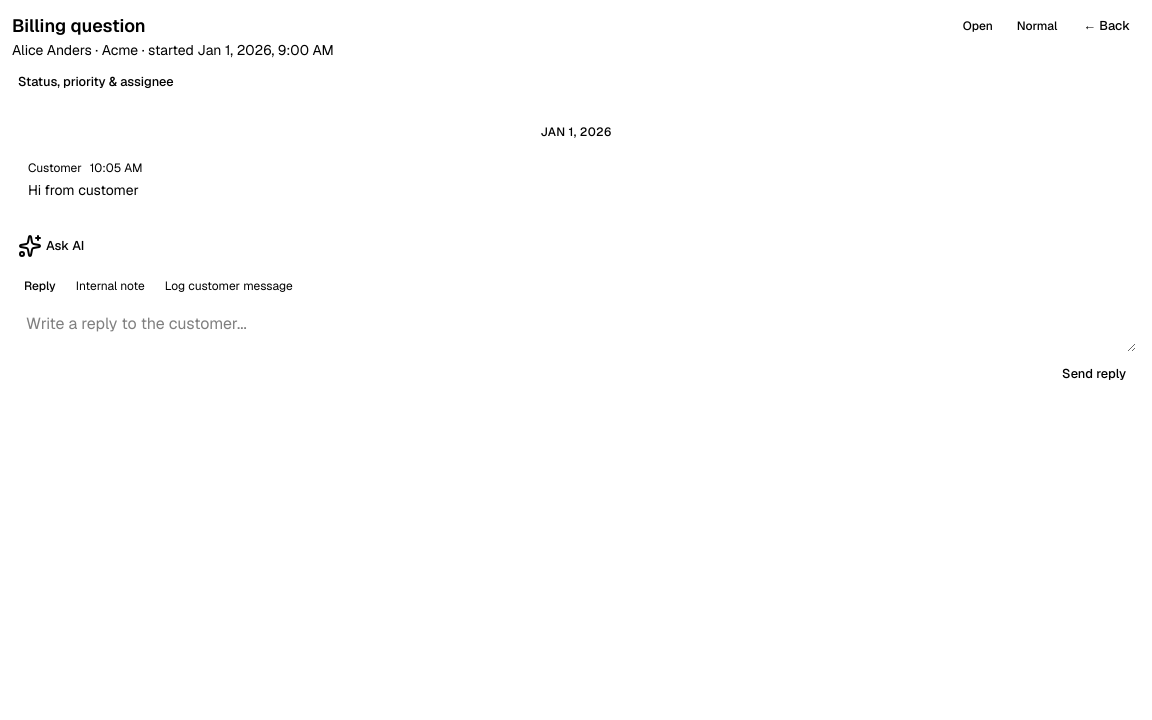
Test: ConversationPane › keeps a failed message in place with a failed indicator, Retry and Discard
Type "Will fail" into the text box at (576, 328), box [16,304,1136,352]
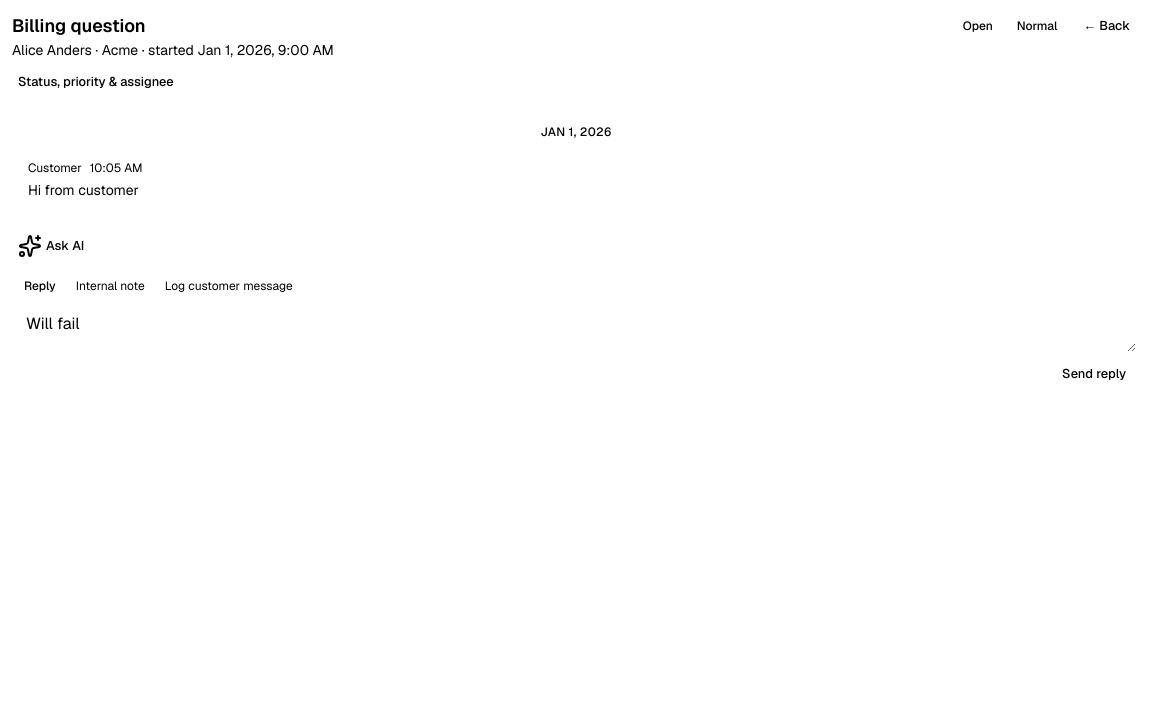
Click the button "Send reply" at (1094, 374), box [1052,360,1136,388]
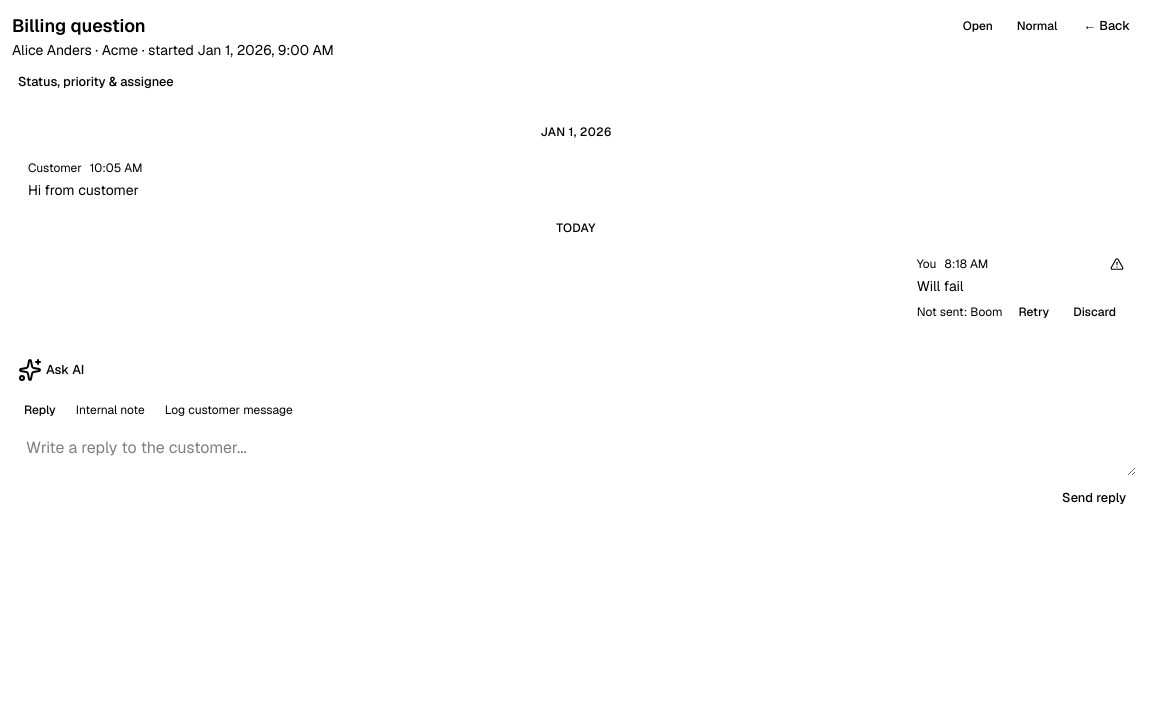
Check: the picture named "Failed to send" is shown, box [1110,257,1124,271]
Check: the button "Retry" is shown, box [1010,300,1057,324]
Check: the text "Will fail" is shown once, box [917,277,964,295]
Click the button "Discard" at (1095, 312), box [1065,300,1124,324]
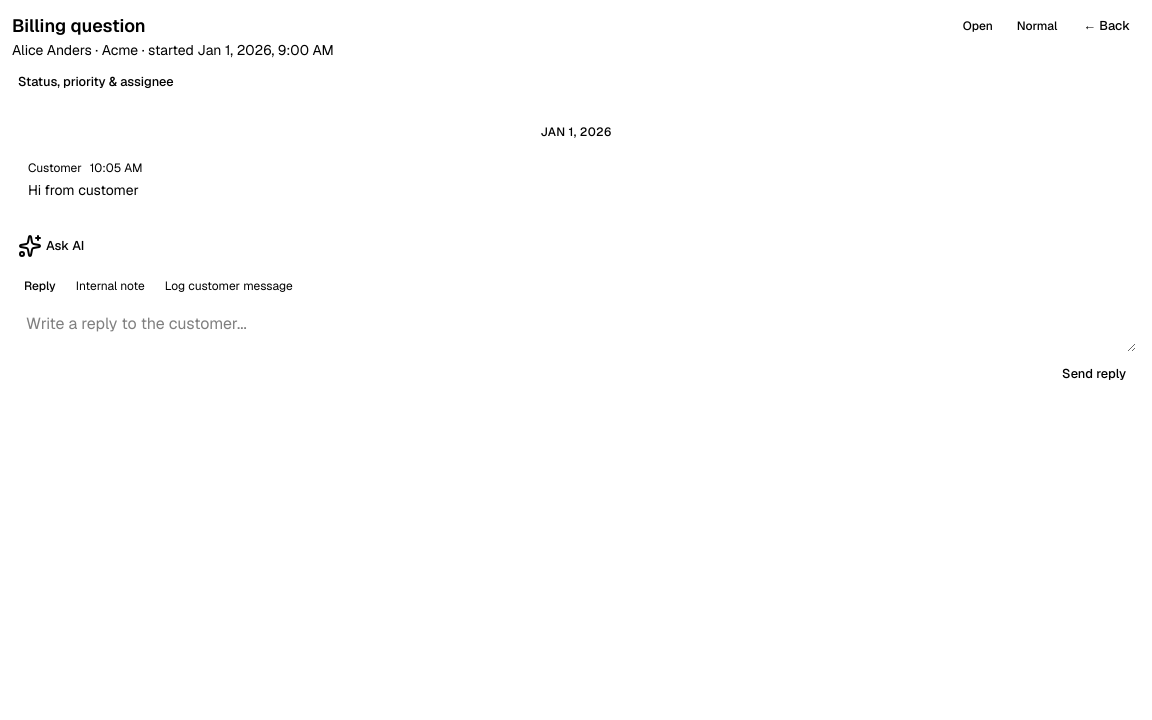
Check: the text "Will fail" is gone
